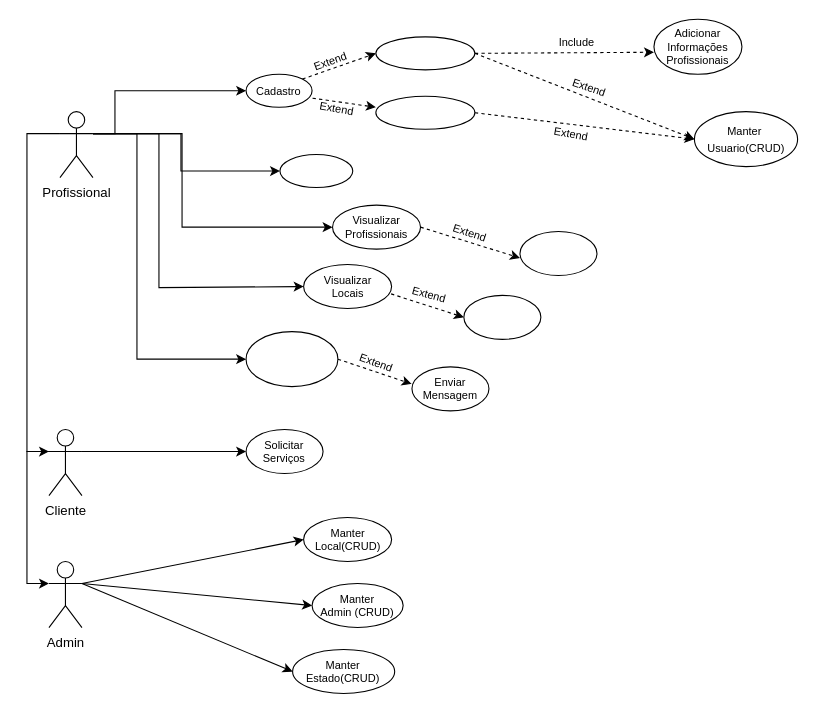
Image size: 817x713. Some labels were removed from this diagram. Here are the shapes that lost their labels. From the top down, the centre of each, then its label:
the point at 425,53: Conta Profissional
the point at 425,112: Conta Cliente
the point at 316,170: Login
the point at 558,253: Pesquisar Profissionais
the point at 502,316: Pesquisar Locais
the point at 291,359: Manter Negociação (CRUD)
